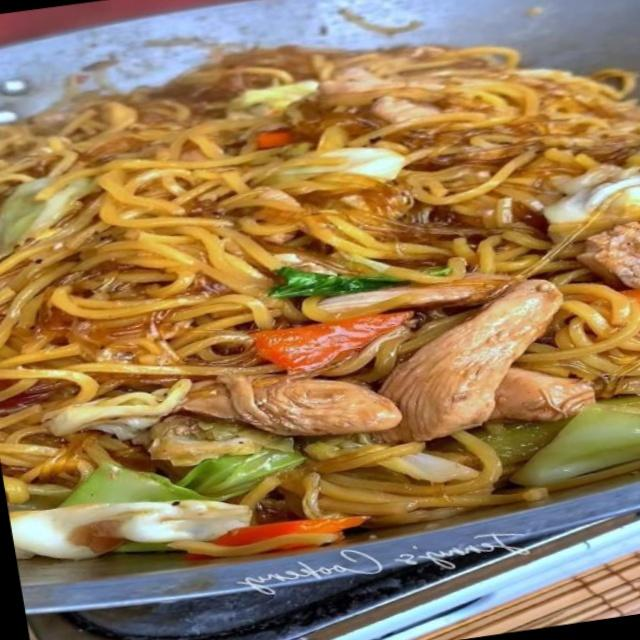pancit bihon: (0, 56, 639, 552)
